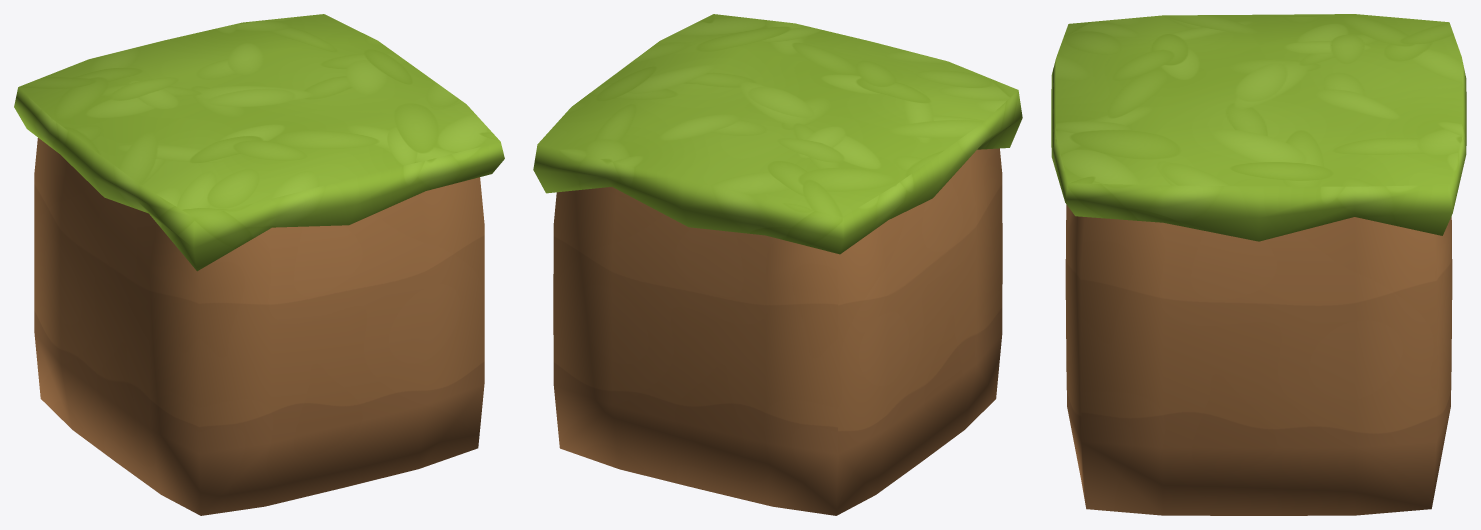
File: lime_single.glb
The picture shows the model from 3 angles, left to right: view 1: azimuth 30°, elevation 25°; view 2: azimuth 150°, elevation 25°; view 3: azimuth 270°, elevation 25°; orthographic projection. The views are drawn at different scales.
Parts seen in each view (by area): view 1: lime_single; view 2: lime_single; view 3: lime_single.
Part boxes in pixels (x1,y1,x2,y2): lime_single: (14,14,504,515); lime_single: (533,14,1022,515); lime_single: (1051,14,1466,515).
Bounding box in the file's own units: 1.07 × 1.05 × 1.07.
Materials: 2 (2 with a texture image).
